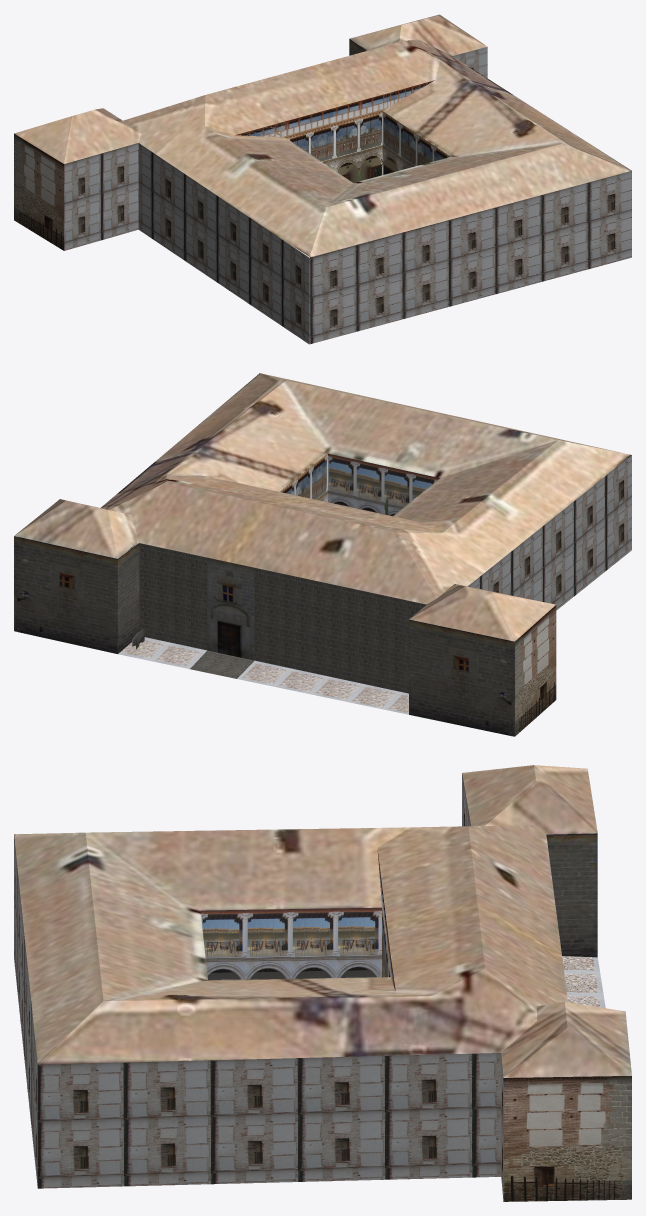
The picture shows the model from 3 angles, top to bottom: view 1: azimuth 30°, elevation 25°; view 2: azimuth 150°, elevation 25°; view 3: azimuth 270°, elevation 25°; orthographic projection. The views are drawn at different scales.
Parts seen in each view (by area): view 1: SketchUp (×5); view 2: SketchUp (×13); view 3: SketchUp (×6).
Boxes of the visible parts, x1,y1,x2,y2 form: SketchUp (×5): (14,14,631,344); SketchUp (×13): (14,373,631,736); SketchUp (×6): (14,765,631,1201).
Size of the model in its own units: 1686 by 1424 by 433.
17 materials, 15 textured.
